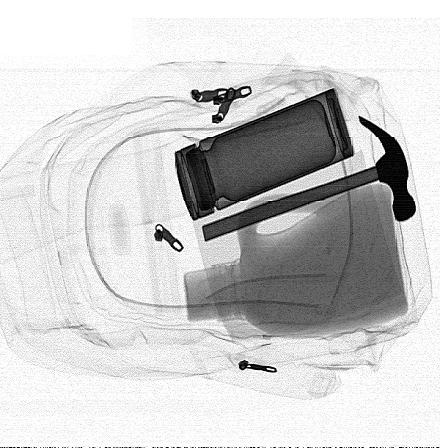Hammer: (201, 115, 416, 243)
